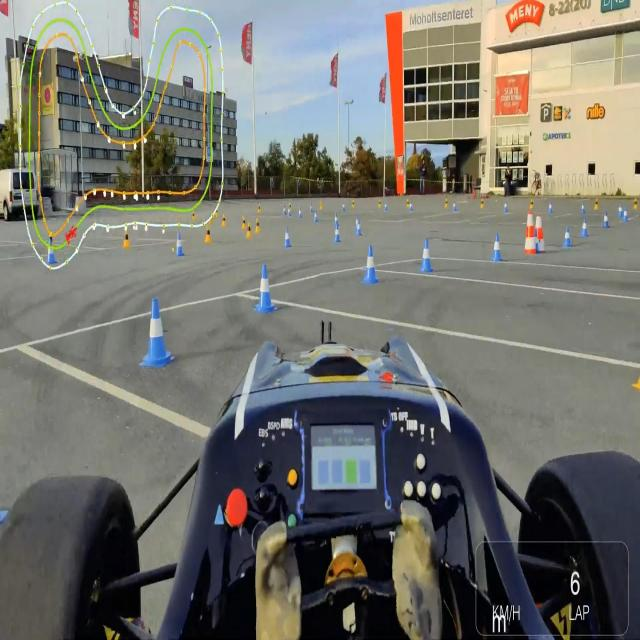blue_cone: (140, 297, 174, 370), (254, 264, 276, 314), (362, 244, 378, 284), (418, 238, 434, 274), (492, 233, 504, 262), (46, 236, 57, 264), (531, 228, 541, 252), (284, 225, 292, 250), (177, 232, 184, 256), (580, 218, 588, 237), (563, 226, 570, 247), (333, 224, 341, 242), (333, 210, 339, 227), (357, 220, 363, 236), (622, 206, 628, 222), (354, 216, 360, 230), (604, 212, 609, 228), (580, 202, 586, 214), (618, 203, 623, 217), (298, 206, 303, 217), (503, 202, 508, 213), (548, 200, 552, 213), (409, 202, 414, 212), (314, 211, 318, 223), (310, 202, 314, 213), (384, 201, 388, 212), (342, 200, 346, 211), (282, 205, 286, 215), (453, 202, 457, 212), (288, 206, 291, 217)
large_orange_cone: (525, 212, 536, 255), (535, 214, 544, 253)
yellow_cone: (204, 224, 212, 243), (122, 229, 130, 247), (245, 222, 252, 240), (255, 217, 261, 232), (242, 214, 247, 231), (632, 197, 638, 210), (221, 214, 227, 227), (594, 196, 599, 211), (529, 198, 534, 210), (351, 199, 356, 210), (191, 210, 196, 221), (480, 198, 485, 208), (288, 201, 293, 211), (258, 203, 262, 214), (444, 198, 448, 208), (214, 208, 218, 218), (378, 198, 382, 207), (407, 198, 410, 208), (320, 201, 323, 210)
